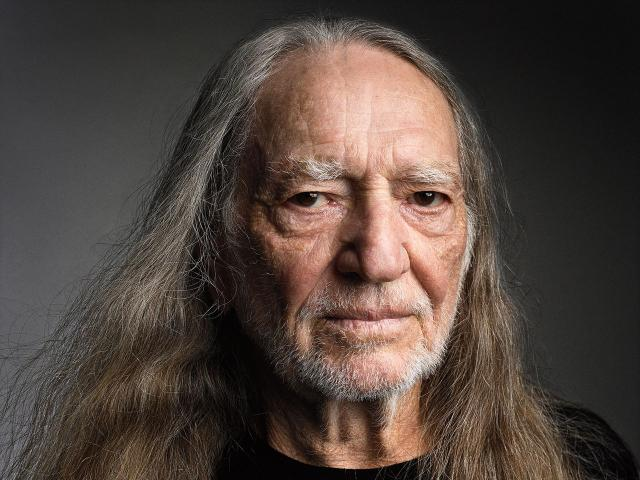crows_feet: (252, 186, 280, 214)
forehead: (368, 124, 414, 138), (300, 119, 320, 149), (336, 94, 352, 126)
frown_line: (358, 147, 376, 177), (358, 182, 386, 198), (387, 139, 401, 169)
gummy_smile: (307, 256, 338, 302), (404, 262, 436, 298)
